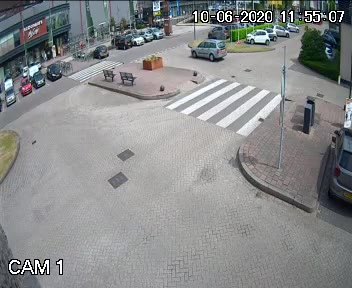car: (185, 34, 231, 64)
